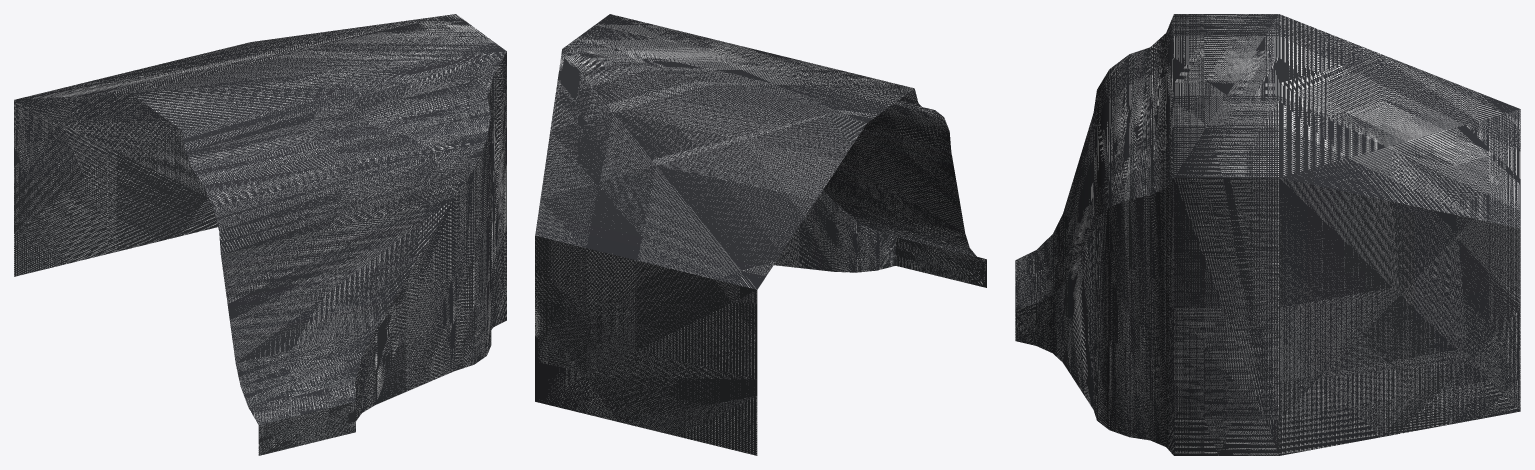
Rendered from original-27.obj.
3 renders of one model, left to right at view 1: azimuth 30°, elevation 25°; view 2: azimuth 150°, elevation 25°; view 3: azimuth 270°, elevation 25°, orthographic. The views are drawn at different scales.
Parts seen in each view (by area): view 1: DF_12_TR1/DF_12_TR/mesh20/mesh20-geometry#mesh20-geometry; view 2: DF_12_TR1/DF_12_TR/mesh20/mesh20-geometry#mesh20-geometry; view 3: DF_12_TR1/DF_12_TR/mesh20/mesh20-geometry#mesh20-geometry.
Boxes of the visible parts, x1=… form: DF_12_TR1/DF_12_TR/mesh20/mesh20-geometry#mesh20-geometry: x1=14, y1=14, x2=506, y2=455; DF_12_TR1/DF_12_TR/mesh20/mesh20-geometry#mesh20-geometry: x1=535, y1=14, x2=986, y2=455; DF_12_TR1/DF_12_TR/mesh20/mesh20-geometry#mesh20-geometry: x1=1015, y1=14, x2=1520, y2=455.
Bounding box in the file's own units: 0.0218 × 0.0172 × 0.0284.
